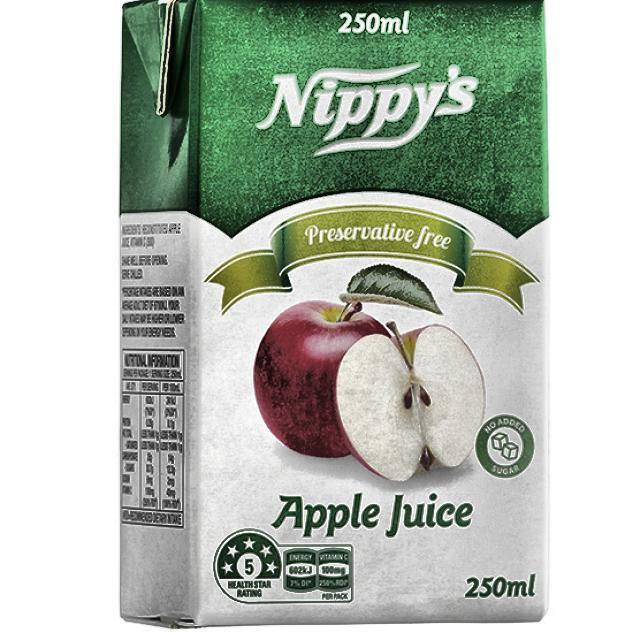cardboard: (117, 0, 550, 627)
